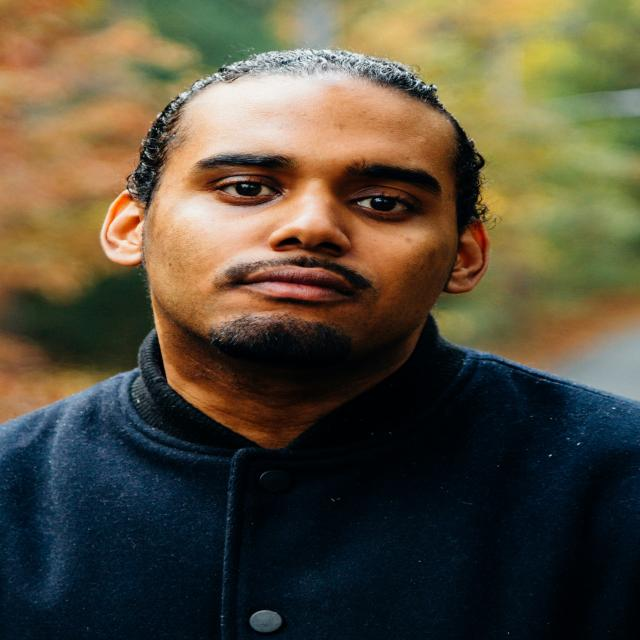human: (19, 44, 640, 640)
